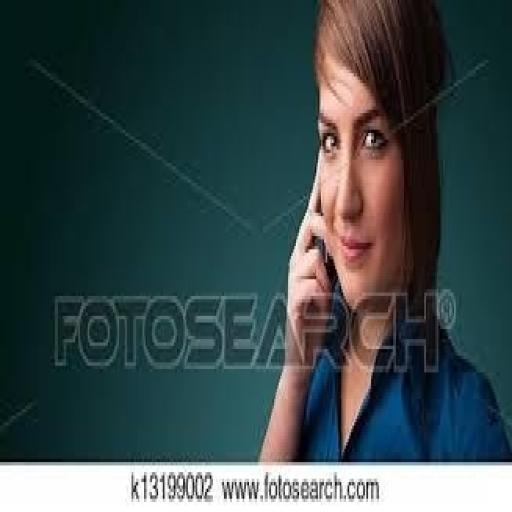calling: (256, 0, 510, 462)
